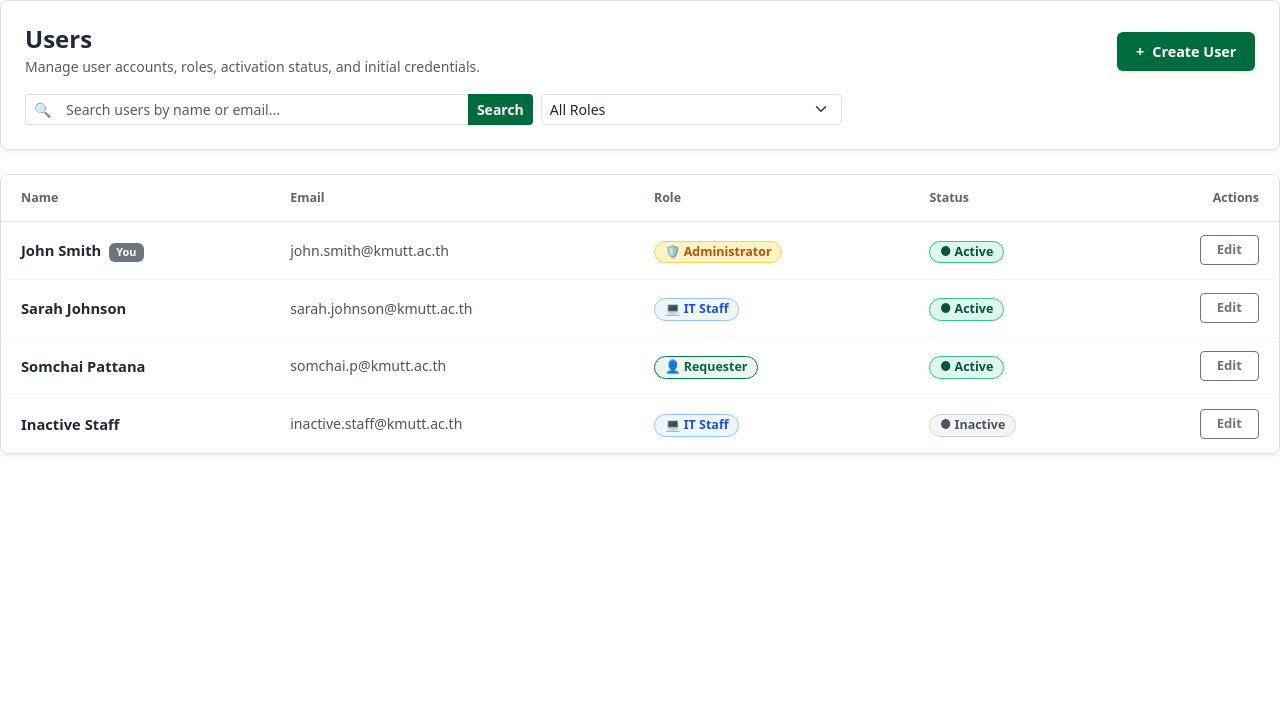
it: UserManagement Component Tests (UI-07, UI-08, UI-09, Feature-12) › UI-08: Admin Create User form and initial password (AC-16, FR-34) › opens Create User modal and validates required fields
The width and height of the screenshot is (1280, 720).
Expected: the heading "Users" is shown, [25,22,92,55]
Click the button "+ Create User". click: (1186, 51)
box: [1117,32,1255,71]
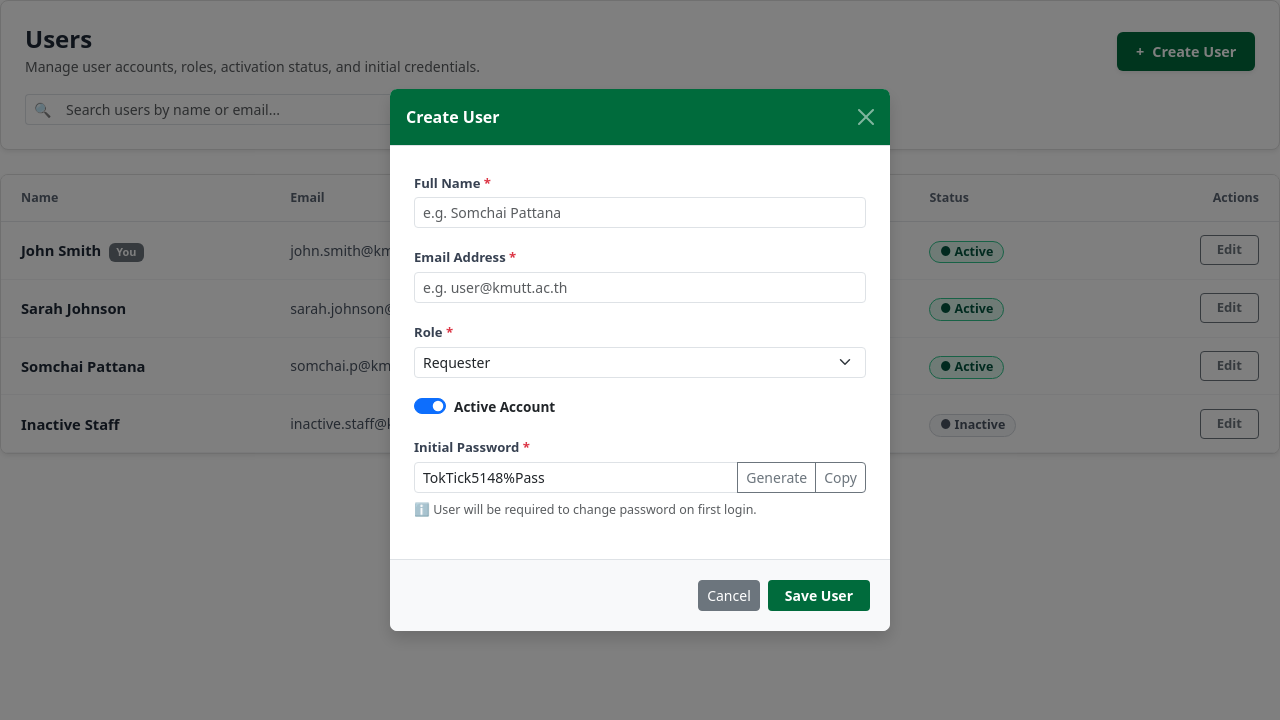
Expected: the element with id "create-user-modal" is shown
// Clear the pre-generated password to test validation
Clear the field with id "create-user-password". click: (576, 477)
box: [414,462,738,492]
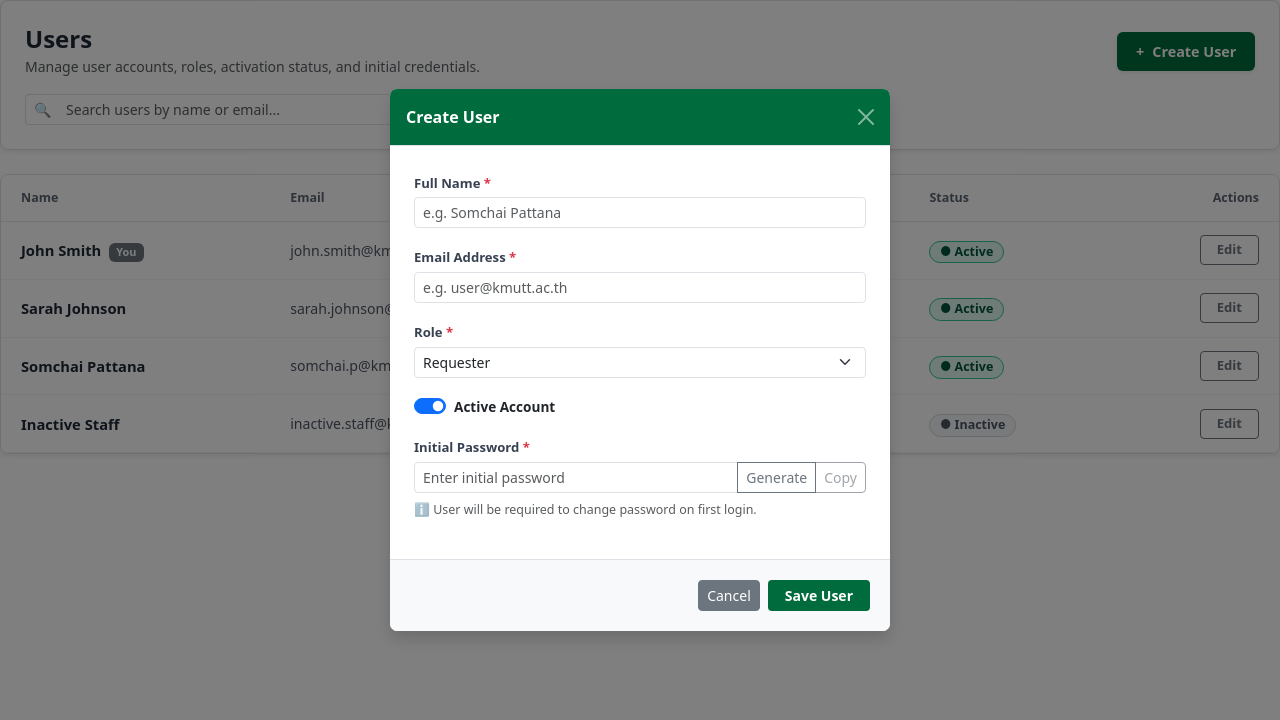
// Click save with empty fields
Click the button "Save User". click: (819, 596)
box: [768,580,870,611]
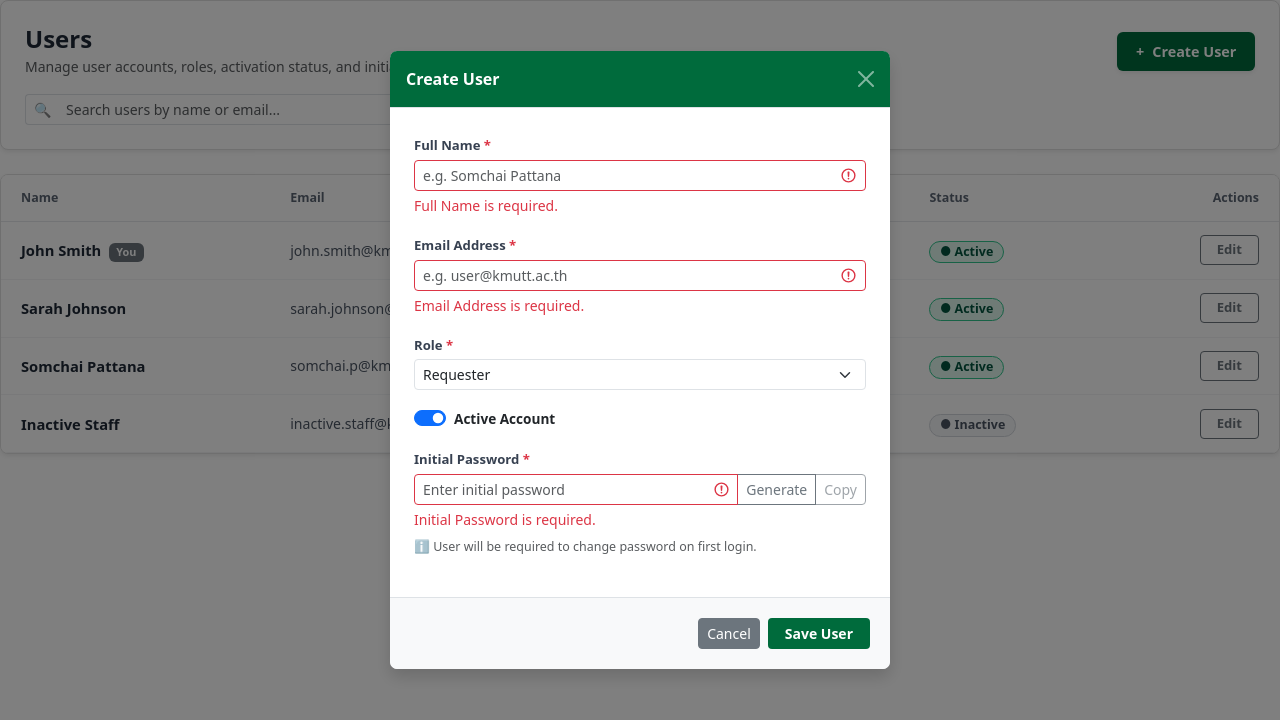
Expected: the text "Full Name is required." is shown, [414,196,558,215]
Expected: the text "Email Address is required." is shown, [414,296,584,315]
Expected: the text "Initial Password is required." is shown, [414,510,596,529]
